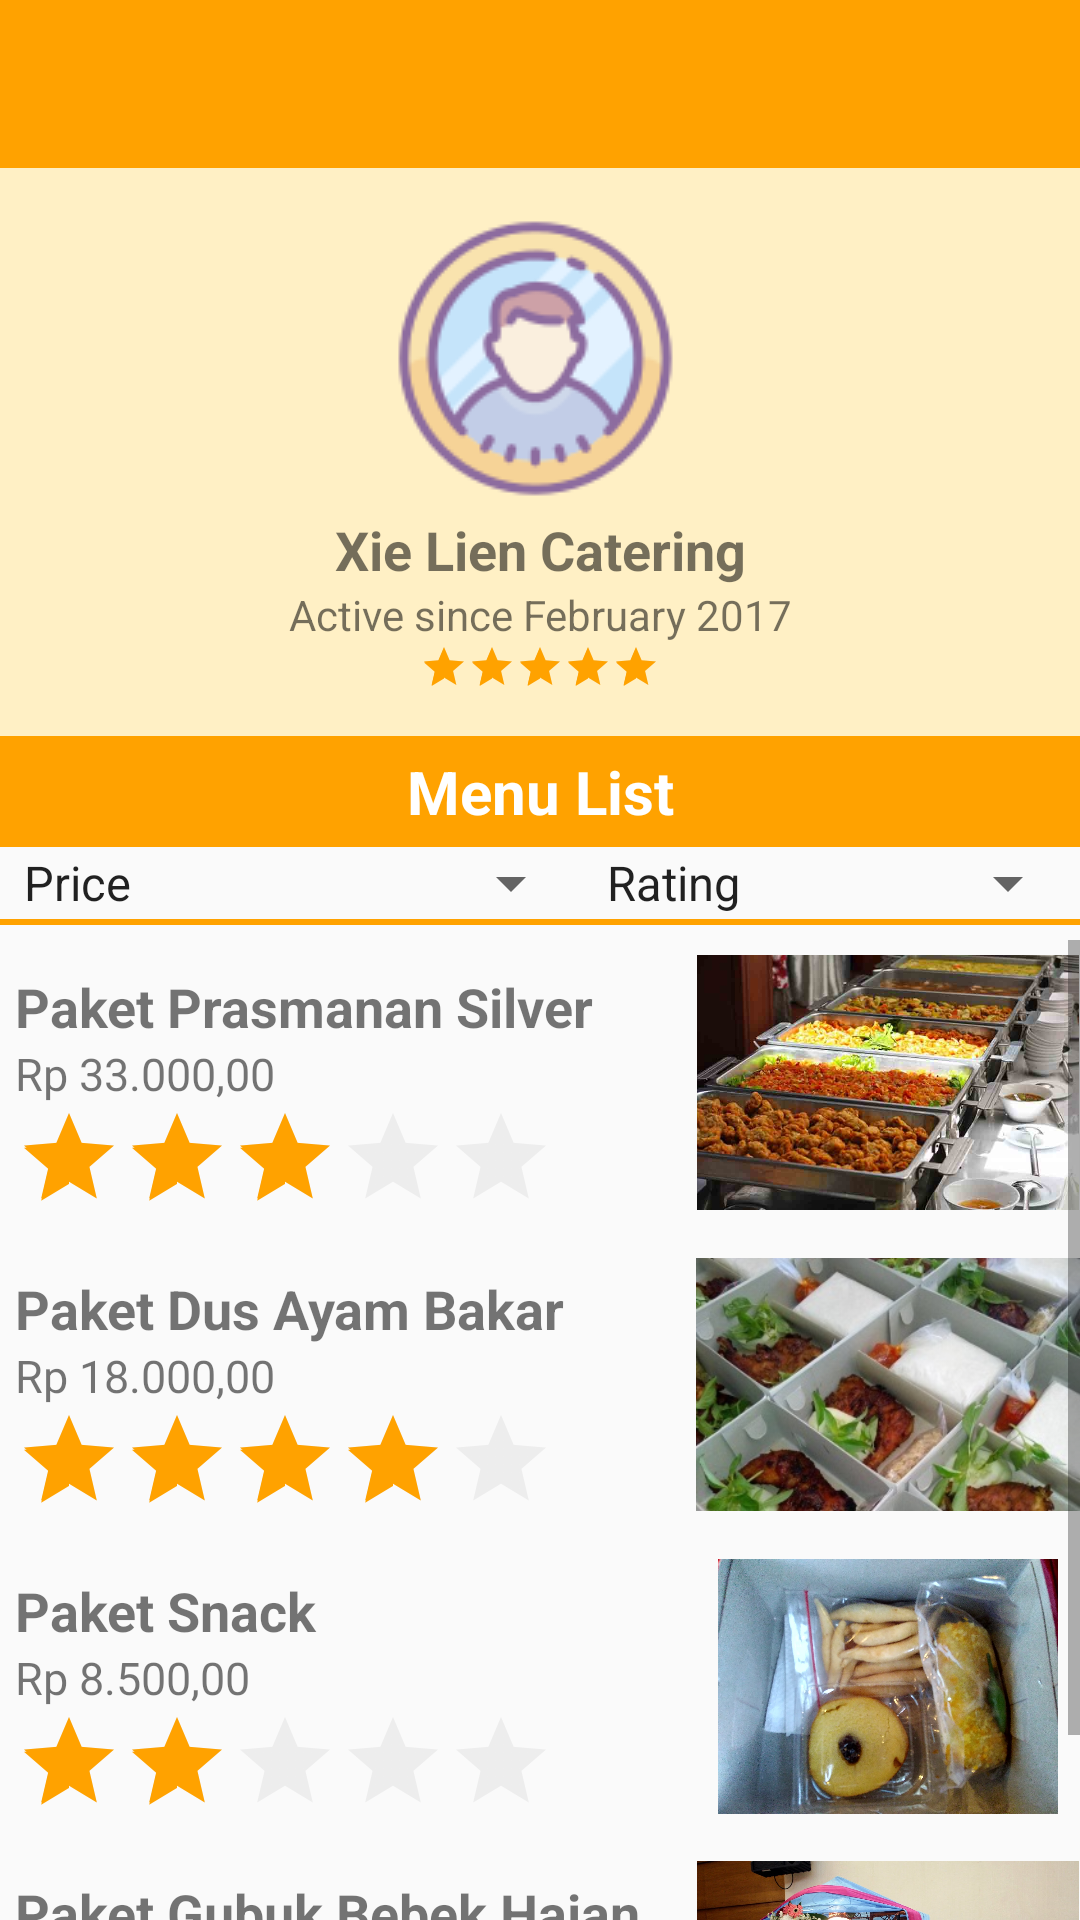

Named icons in this screenshot (1080w x 1920h) and their centers, (x,y):
foto akun: (535,358)
